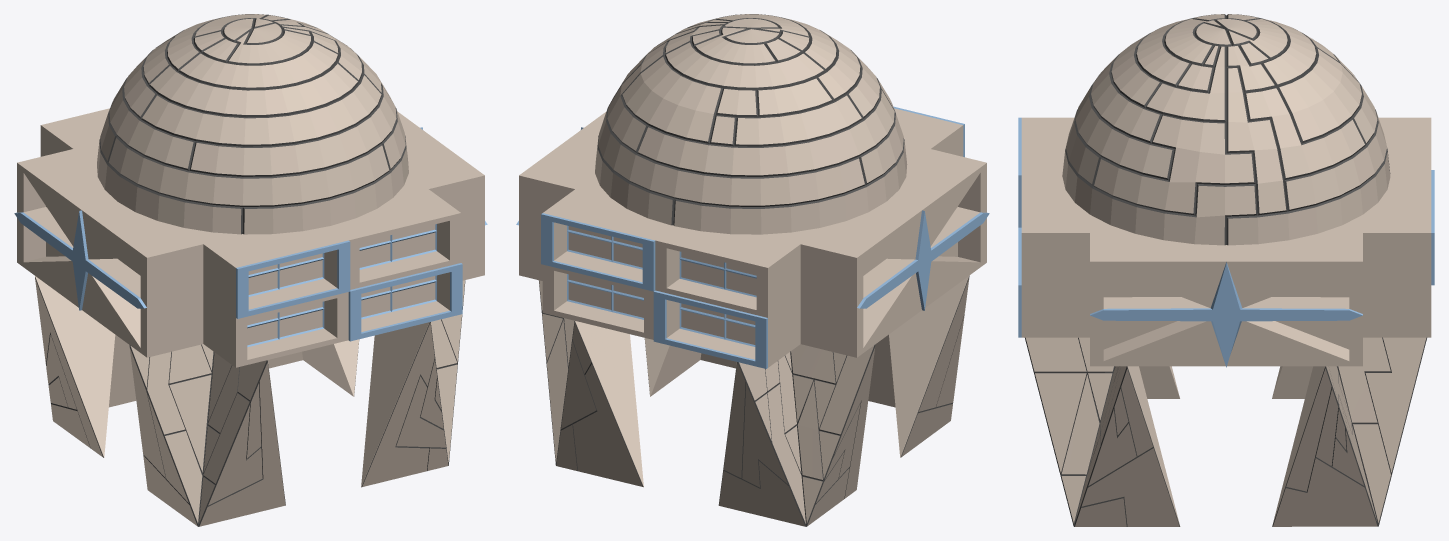
File: Building_05_Merge.fbx
The picture shows the model from 3 angles, left to right: view 1: azimuth 30°, elevation 25°; view 2: azimuth 150°, elevation 25°; view 3: azimuth 270°, elevation 25°; orthographic projection. The views are drawn at different scales.
Parts seen in each view (by area): view 1: Building_05; view 2: Building_05; view 3: Building_05.
Boxes of the visible parts, <box> form: Building_05: <box>14,14,487,526</box>; Building_05: <box>516,14,989,526</box>; Building_05: <box>1018,14,1434,526</box>.
Size of the model in its own units: 1110 by 1280 by 1110.
